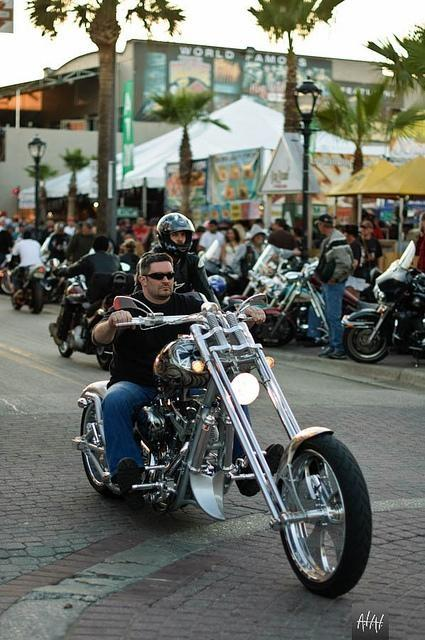motorcycle: (71, 292, 372, 600), (341, 240, 423, 364), (58, 270, 136, 368), (248, 262, 318, 346), (244, 246, 301, 300), (200, 240, 248, 298), (56, 276, 86, 338), (11, 264, 48, 314), (42, 257, 69, 304), (221, 300, 243, 310)
